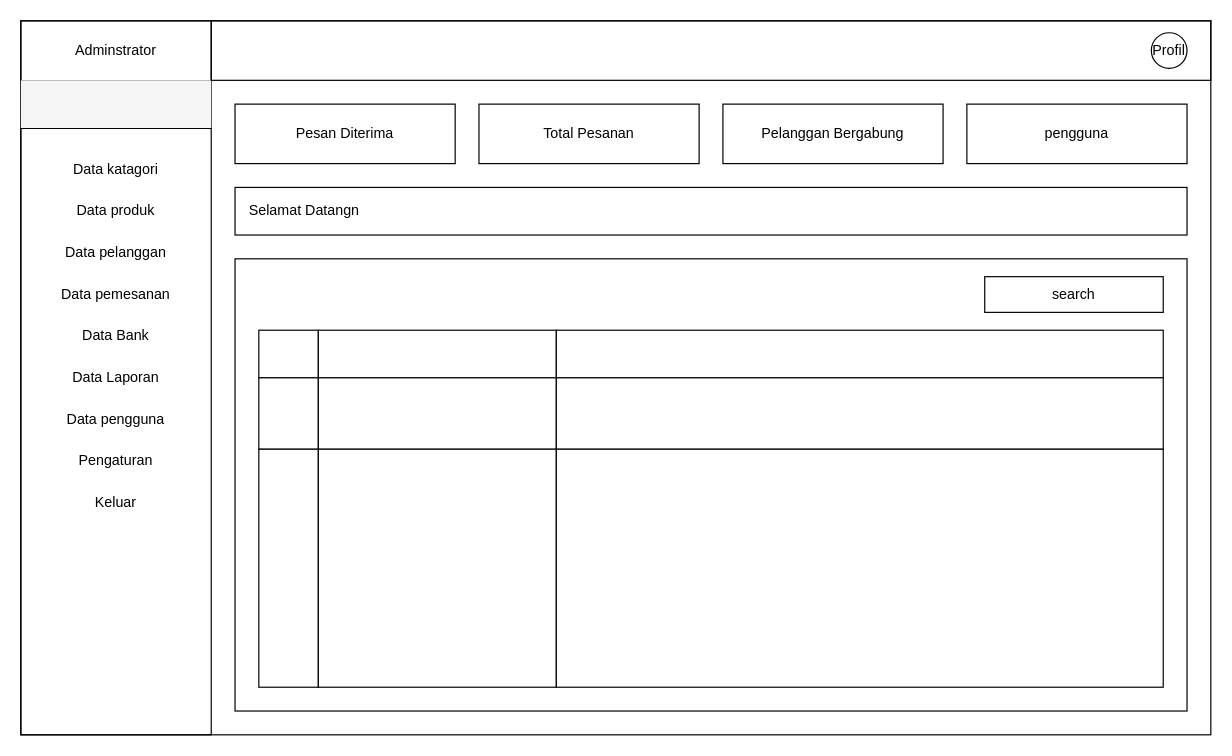
Image size: 1232x756. Some labels were removed from this diagram. The centre of each missing label's shape, as x and y in pixels:
"Dashboard" belongs at pixel 115 103.
"Gambar" belongs at pixel 436 353.
"Judul" belongs at pixel 859 353.
"NO" belongs at pixel 288 353.
